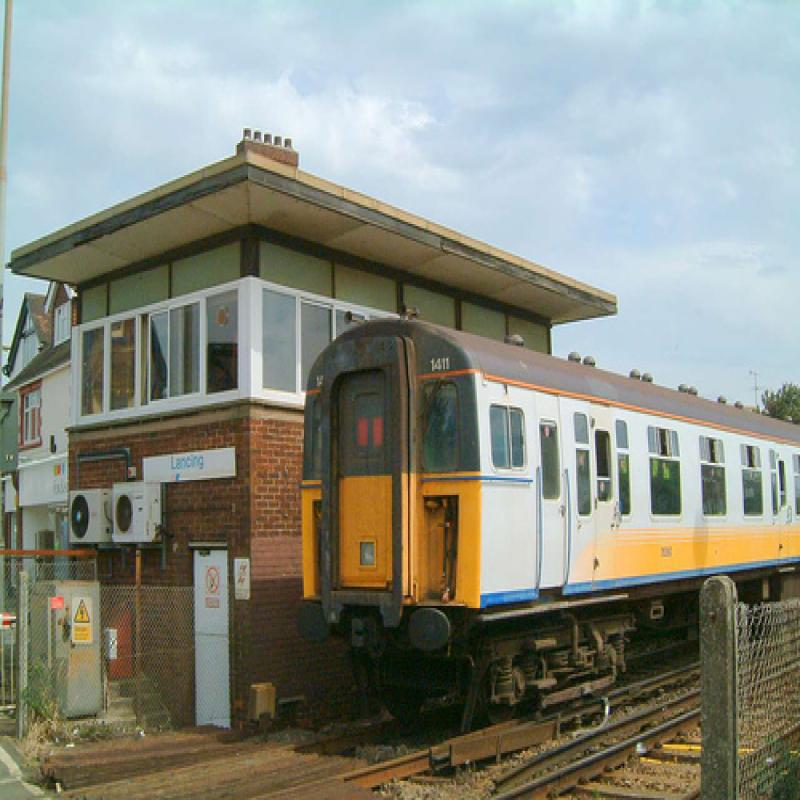train: (299, 306, 800, 737)
